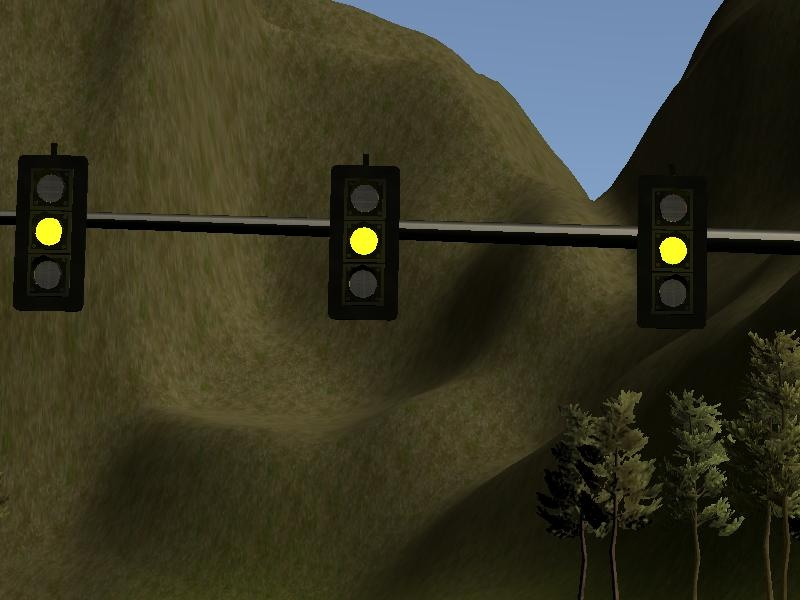YELLOW: (10, 153, 89, 309), (325, 163, 404, 319), (633, 175, 712, 331)
